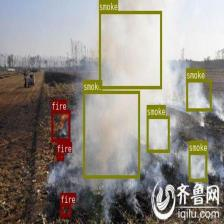fire: (51, 110, 70, 141), (60, 204, 71, 216), (56, 153, 64, 160)
smoke: (83, 90, 139, 178), (99, 11, 162, 88), (146, 116, 169, 152), (186, 79, 211, 111), (188, 151, 207, 181)
